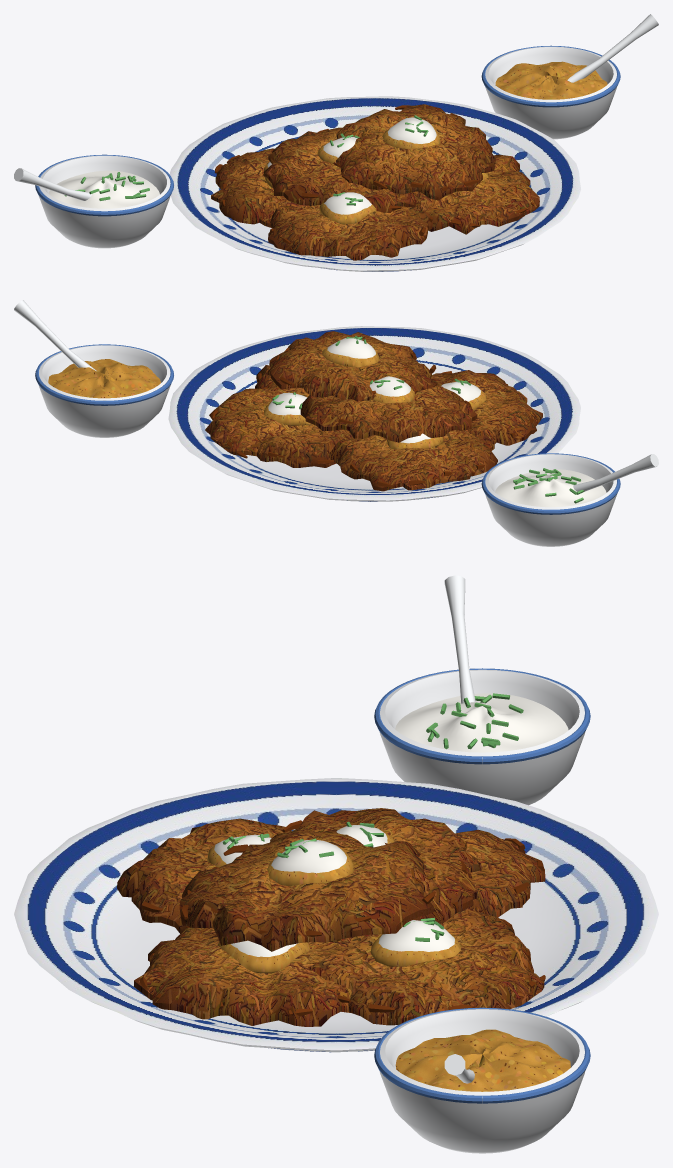
Rendered from latkes.glb.
The picture shows the model from 3 angles, top to bottom: view 1: azimuth 30°, elevation 25°; view 2: azimuth 150°, elevation 25°; view 3: azimuth 270°, elevation 25°; orthographic projection. The views are drawn at different scales.
Visible parts, largest first — view 1: Latkes_Plate, SourCream_Bowl, Applesauce_Bowl, Latke_6, Latke_3, Latke_5, Latke_4, Latke_1, Latke_6_SourCream, Latke_3_SourCream, Latke_3_Applesauce, Latke_5_SourCream (+1 smaller); view 2: Latkes_Plate, Applesauce_Bowl, SourCream_Bowl, Latke_1, Latke_6, Latke_2, Latke_5, Latke_3, Latke_6_SourCream, Latke_2_SourCream, Latke_5_SourCream, Latke_6_Applesauce (+4 smaller); view 3: Latkes_Plate, Applesauce_Bowl, SourCream_Bowl, Latke_6, Latke_2, Latke_4, Latke_5, Latke_3, Latke_1, Latke_6_SourCream, Latke_2_SourCream, Latke_4_Applesauce (+2 smaller).
Boxes of the visible parts, x1,y1,x2,y2 form: Latkes_Plate: [169, 96, 580, 271]; SourCream_Bowl: [14, 154, 173, 248]; Applesauce_Bowl: [481, 14, 658, 139]; Latke_6: [333, 104, 495, 200]; Latke_3: [268, 204, 433, 260]; Latke_5: [263, 127, 421, 212]; Latke_4: [415, 154, 539, 234]; Latke_1: [211, 148, 310, 227]; Latke_6_SourCream: [387, 115, 436, 143]; Latke_3_SourCream: [324, 192, 371, 214]; Latke_3_Applesauce: [319, 203, 376, 224]; Latke_5_SourCream: [323, 133, 359, 157]; Latkes_Plate: [168, 326, 580, 501]; Applesauce_Bowl: [14, 300, 173, 437]; SourCream_Bowl: [481, 453, 658, 546]; Latke_1: [328, 430, 497, 491]; Latke_6: [267, 331, 437, 401]; Latke_2: [205, 385, 352, 467]; Latke_5: [300, 378, 477, 442]; Latke_3: [431, 370, 542, 445]; Latke_6_SourCream: [327, 336, 375, 358]; Latke_2_SourCream: [268, 392, 307, 415]; Latke_5_SourCream: [369, 376, 410, 396]; Latke_6_Applesauce: [322, 348, 379, 367]; Latkes_Plate: [14, 778, 658, 1052]; Applesauce_Bowl: [374, 1007, 590, 1153]; SourCream_Bowl: [374, 575, 590, 805]; Latke_6: [179, 829, 435, 951]; Latke_2: [308, 908, 545, 1025]; Latke_4: [133, 927, 351, 1026]; Latke_5: [270, 808, 481, 941]; Latke_3: [117, 818, 291, 933]; Latke_1: [455, 829, 545, 917]; Latke_6_SourCream: [271, 838, 346, 873]; Latke_2_SourCream: [378, 917, 454, 951]; Latke_4_Applesauce: [218, 941, 310, 973].
Bounding box in the file's own units: 0.3796 × 0.0521 × 0.2121.
Materials: 8 (3 with a texture image).
